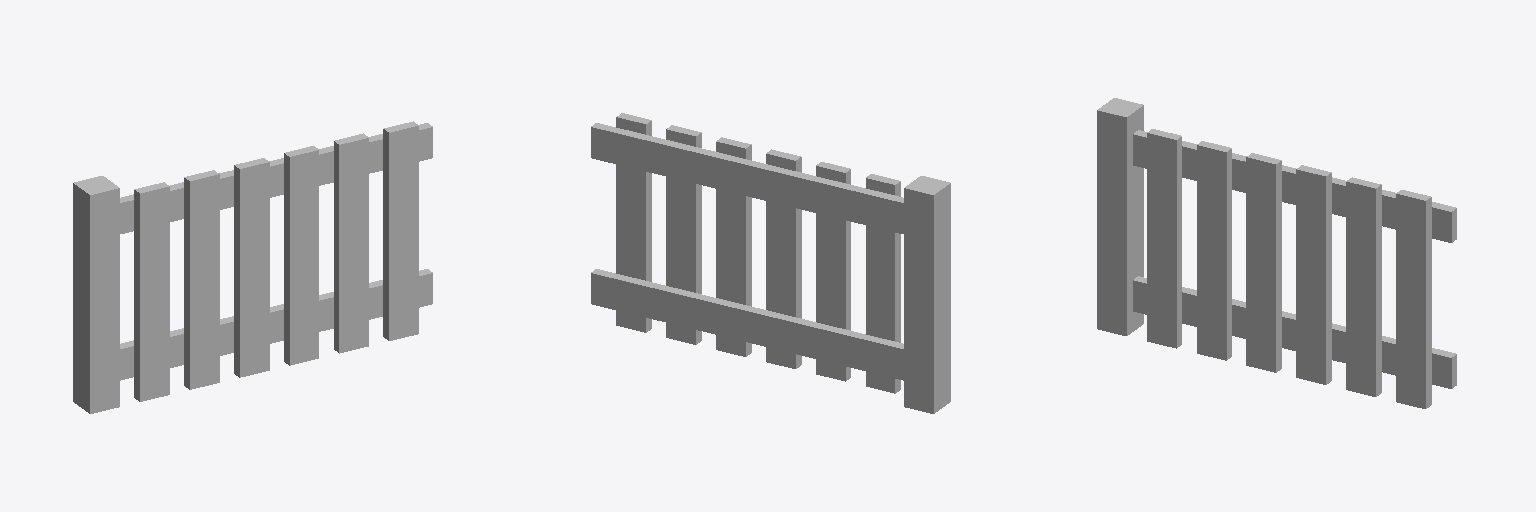
File: fence.obj
The picture shows the model from 3 angles: view 1: azimuth 30°, elevation 25°; view 2: azimuth 150°, elevation 25°; view 3: azimuth 330°, elevation 25°; orthographic projection.
Parts seen in each view (by area): view 1: object 1; view 2: object 1; view 3: object 1.
Part boxes in pixels (x1,y1,x2,y2): object 1: (73,121,432,413); object 1: (591,113,950,413); object 1: (1097,98,1456,408).
Bounding box in the file's own units: 3.5 × 2.1 × 0.3.